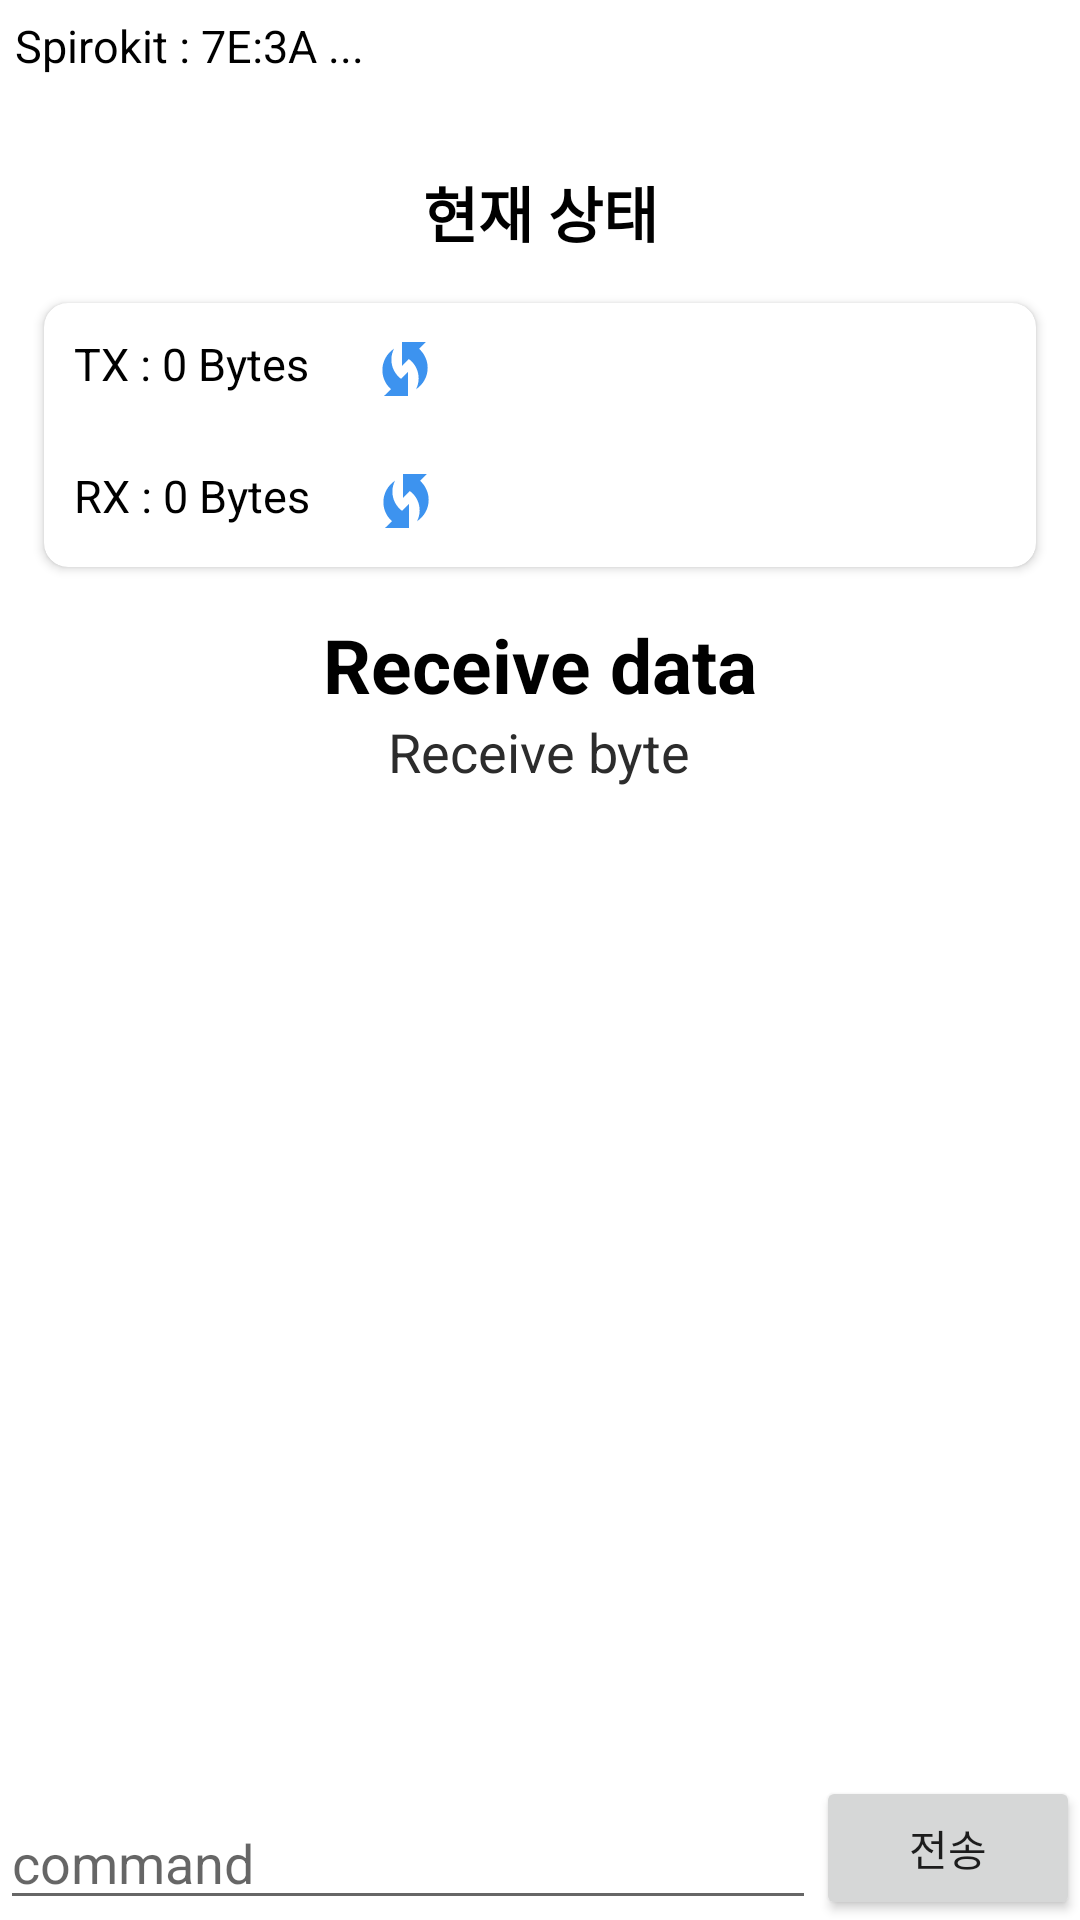

Icon bounding boxes for this 1080 x 1920 phone screenshot, format (left=x1, top=y1, right=x2, bottom=y2):
wifi protected setup: (left=382, top=342, right=428, bottom=396), (left=383, top=474, right=429, bottom=528)
